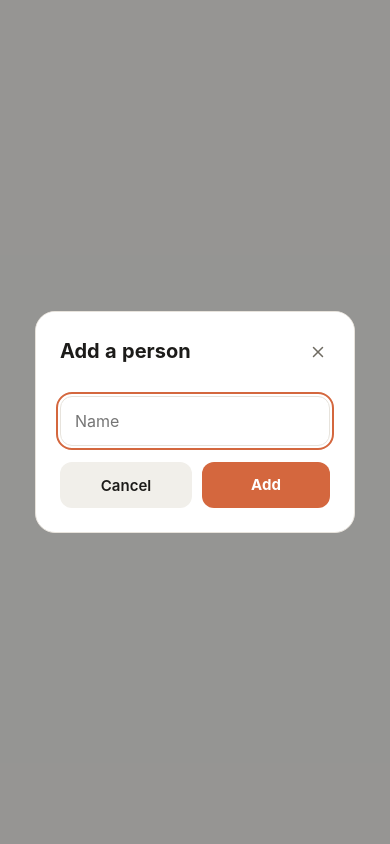
Scenario: AddPersonModal validation › shows an error and does not add a person when the name is blank
Click the button "Add" at coordinates (266, 485), box [202, 462, 330, 508]
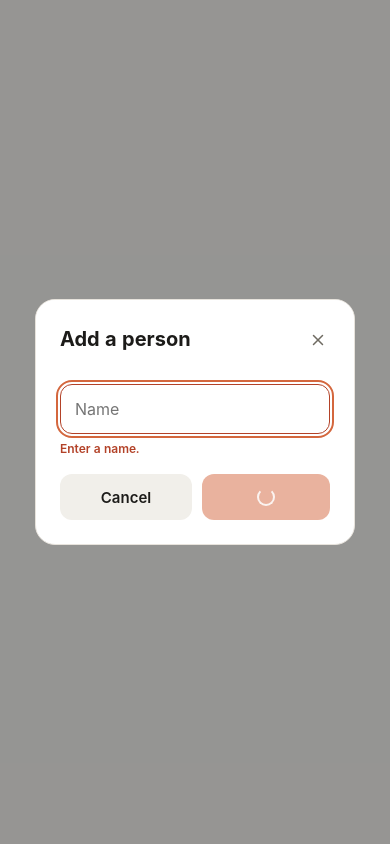
Check: the text "Enter a name." is shown, box [60, 441, 139, 456]
Type "Sam" into the field with placeholder "Name" at coordinates (195, 409), box [60, 384, 330, 434]
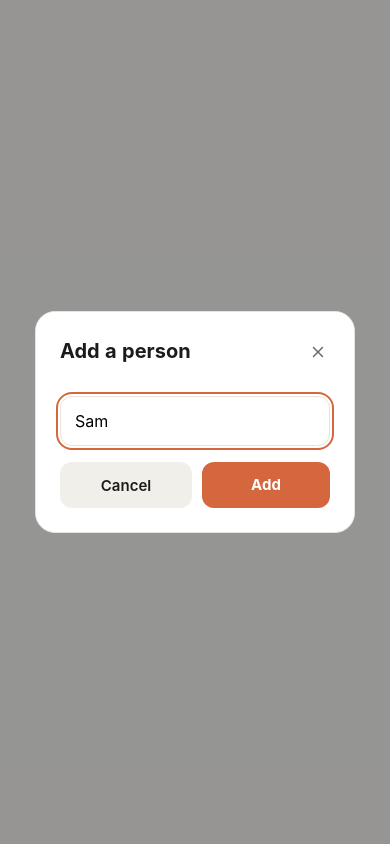
Check: the text "Enter a name." is gone
